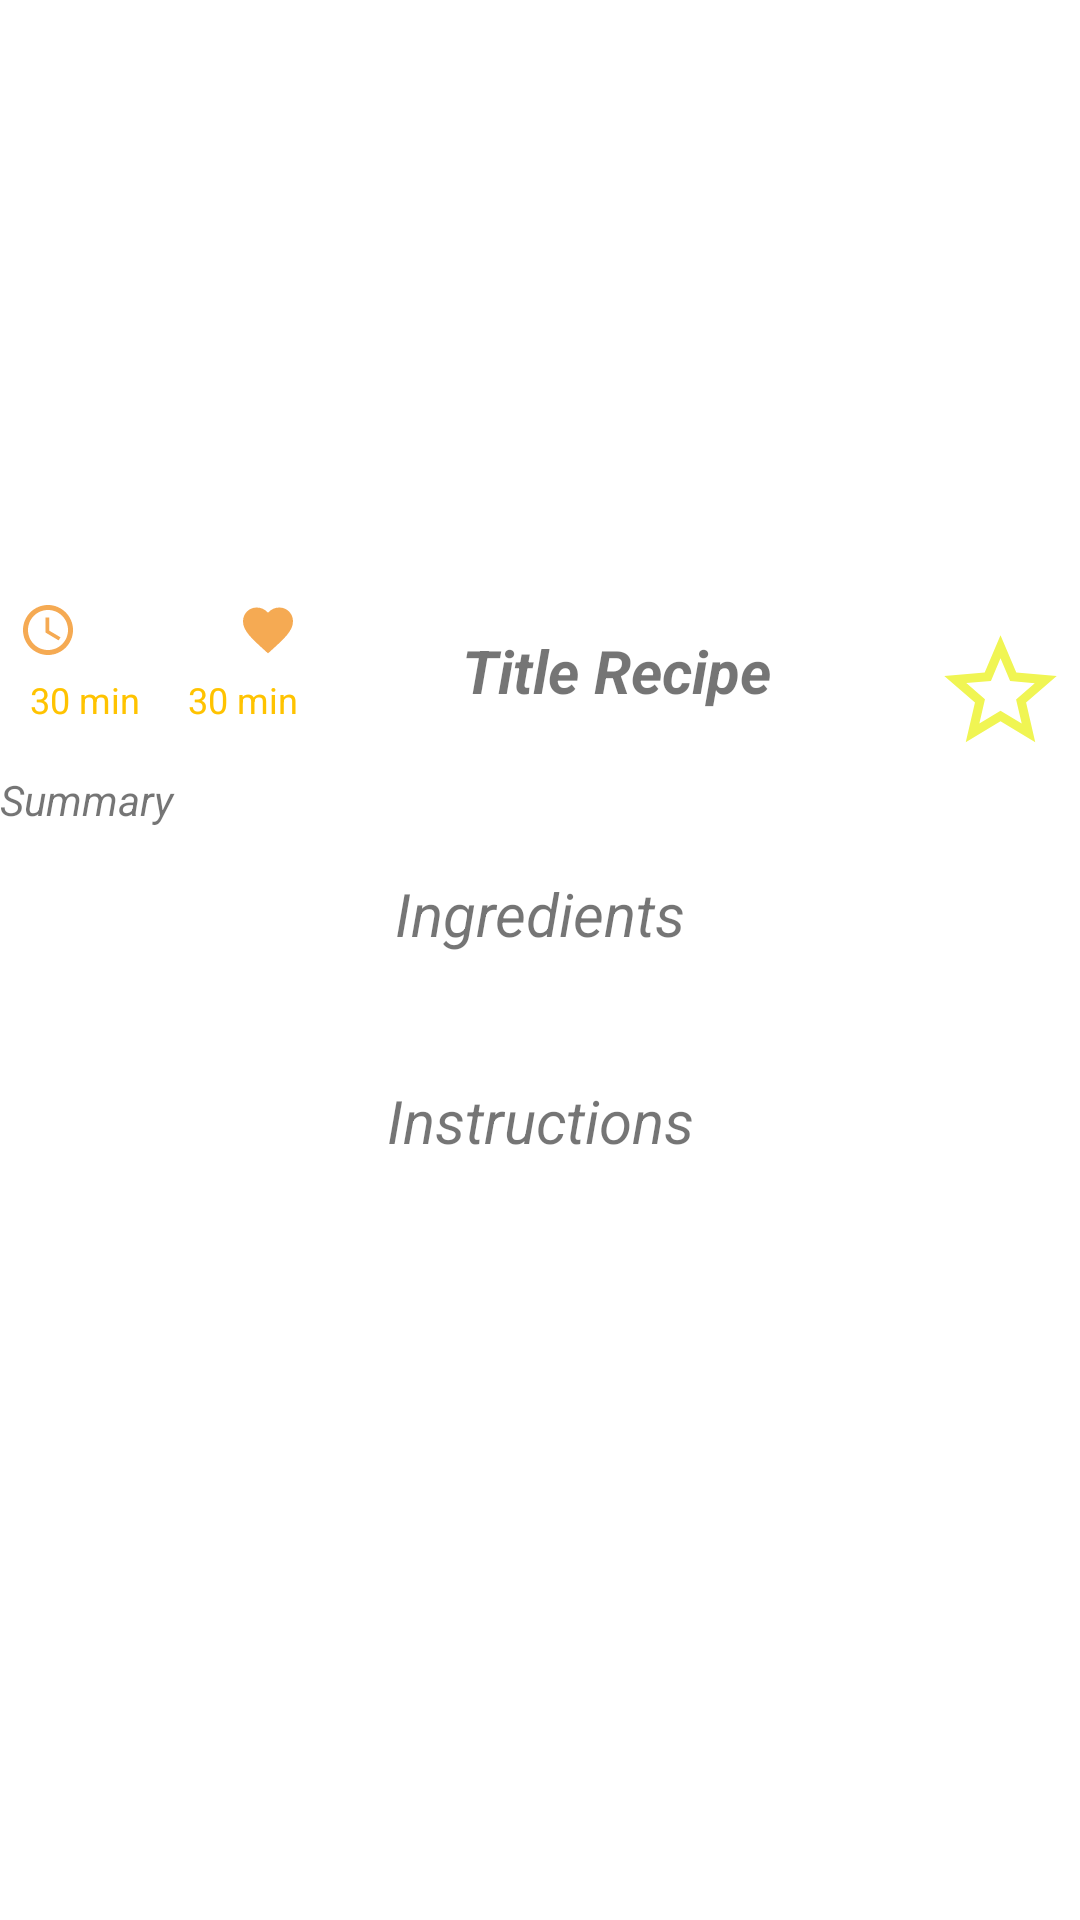

Where icons sit on this 1080 x 1920 app screen, as (x1=x1, y1=y1, x2=x2, y2=y2):
aggregate likes details: (x1=243, y1=607, x2=293, y2=653)
ready time: (x1=23, y1=605, x2=73, y2=655)
